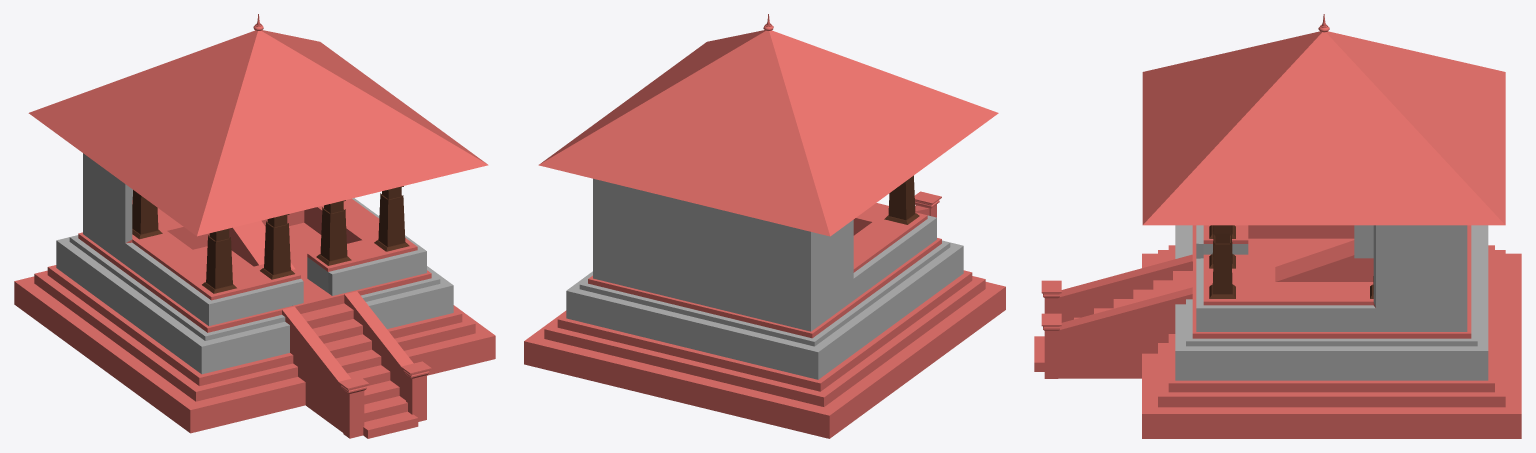
File: Bakka_Pore.glb
3 renders of one model, left to right at view 1: azimuth 30°, elevation 25°; view 2: azimuth 150°, elevation 25°; view 3: azimuth 270°, elevation 25°, orthographic. The views are drawn at different scales.
Visible parts, largest first — view 1: Bakka pore, Plane, Stair, Stair Rail, Pillar, StairPIl, Pillar3, Pillar2, Bakka pore.002, Pillar.001; view 2: Bakka pore, Plane, Pillar; view 3: Bakka pore, Plane, Stair Rail, Bakka pore.002, Stair, StairPIl, Pillar, Bakka pore.001.
Boxes of the visible parts, x1,y1,x2,y2 form: Bakka pore: (14,153,495,433); Plane: (28,30,488,236); Stair: (293,290,418,438); Stair Rail: (282,291,413,432); Pillar: (202,186,409,293); StairPIl: (338,361,431,438); Pillar3: (260,214,294,279); Pillar2: (316,200,351,265); Bakka pore.002: (229,221,295,269); Pillar.001: (132,190,162,239); Bakka pore: (524,178,1005,438); Plane: (538,30,998,236); Pillar: (884,175,919,224); Bakka pore: (1142,225,1521,438); Plane: (1142,31,1505,225); Stair Rail: (1058,254,1192,378); Bakka pore.002: (1275,240,1373,281); Stair: (1034,261,1196,371); StairPIl: (1041,280,1061,378); Pillar: (1209,225,1235,298); Bakka pore.001: (1354,225,1373,258).
Size of the model in its own units: 2.84 by 2.84 by 3.64.
